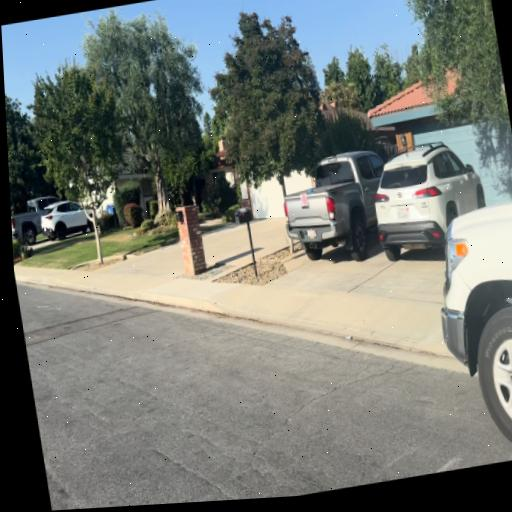bullseye: (301, 193, 308, 207)
